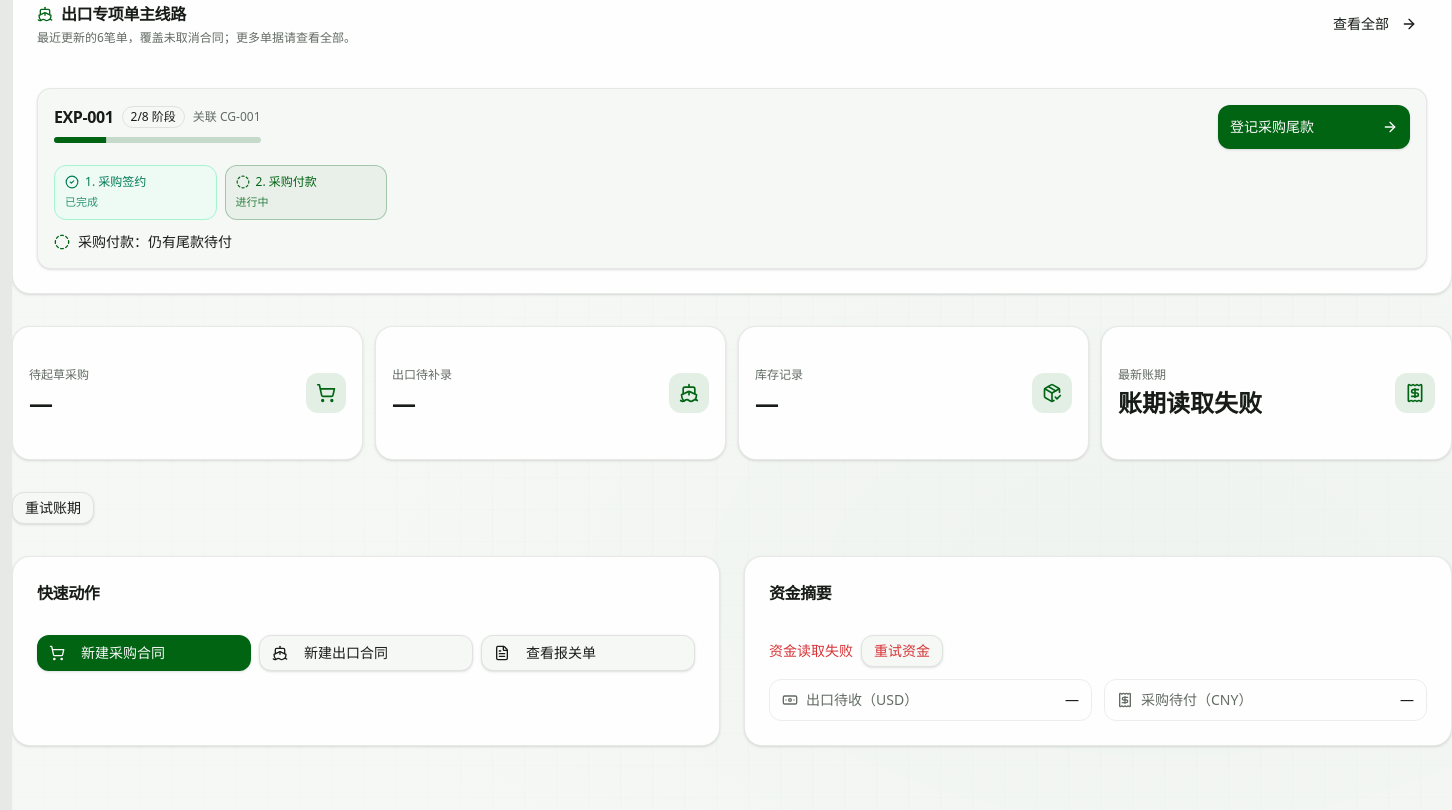
Test: DashboardPage 交互逻辑 › 资金与账期失败分别显示读取失败并可重试，不回退到零或未上传
This screenshot has width=1452, height=810.
(page scrolled)
expect the text "资金读取失败" is shown: met, box [769,640,853,660]
expect the text "账期读取失败" is shown: met, box [1118,386,1262,418]
Click the button "重试资金" at coordinates (902, 650), box [861,634,943,666]
(page scrolled)
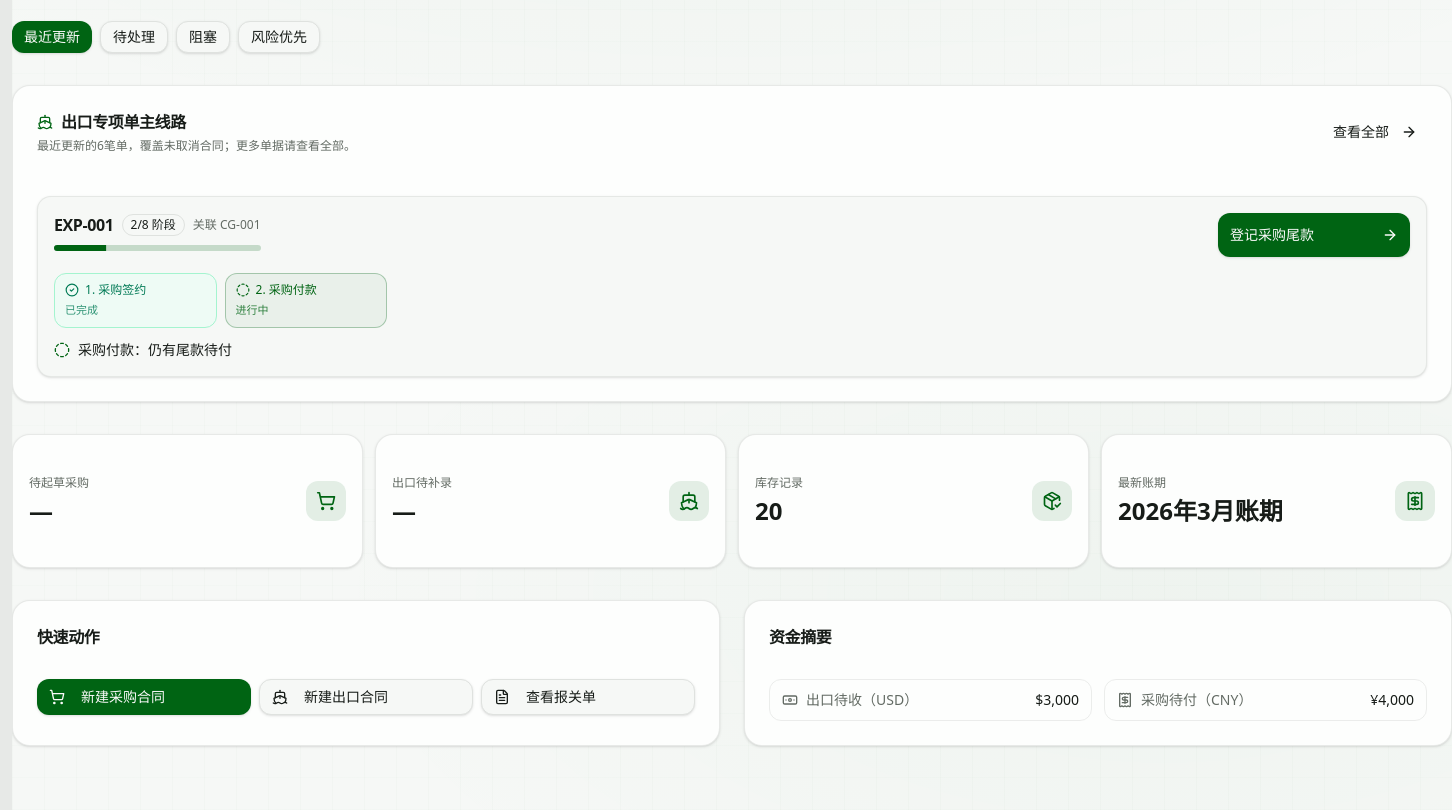
expect the text "$3,000" is shown: met, box [1035,690,1079,710]
